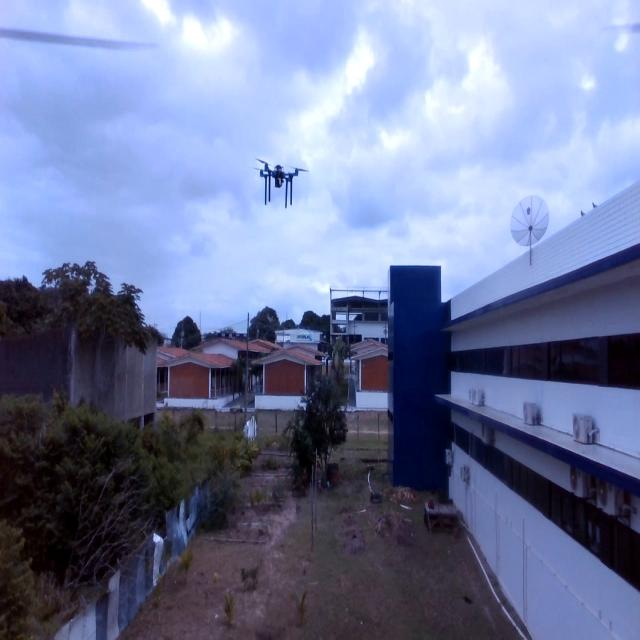-uav-: (252, 150, 312, 213)
